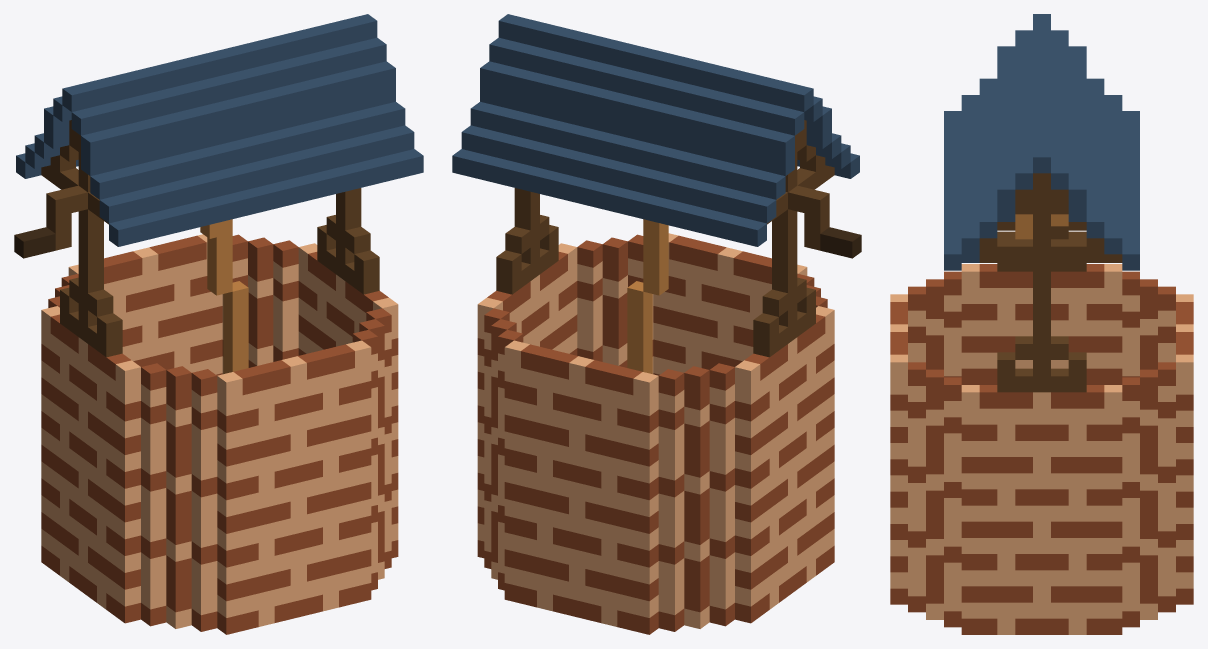
Rendered from Well.obj.
3 renders of one model, left to right at view 1: azimuth 30°, elevation 25°; view 2: azimuth 150°, elevation 25°; view 3: azimuth 270°, elevation 25°, orthographic. The views are drawn at different scales.
Size of the model in its own units: 22 by 30 by 17.
Materials: 1 (1 with a texture image).
